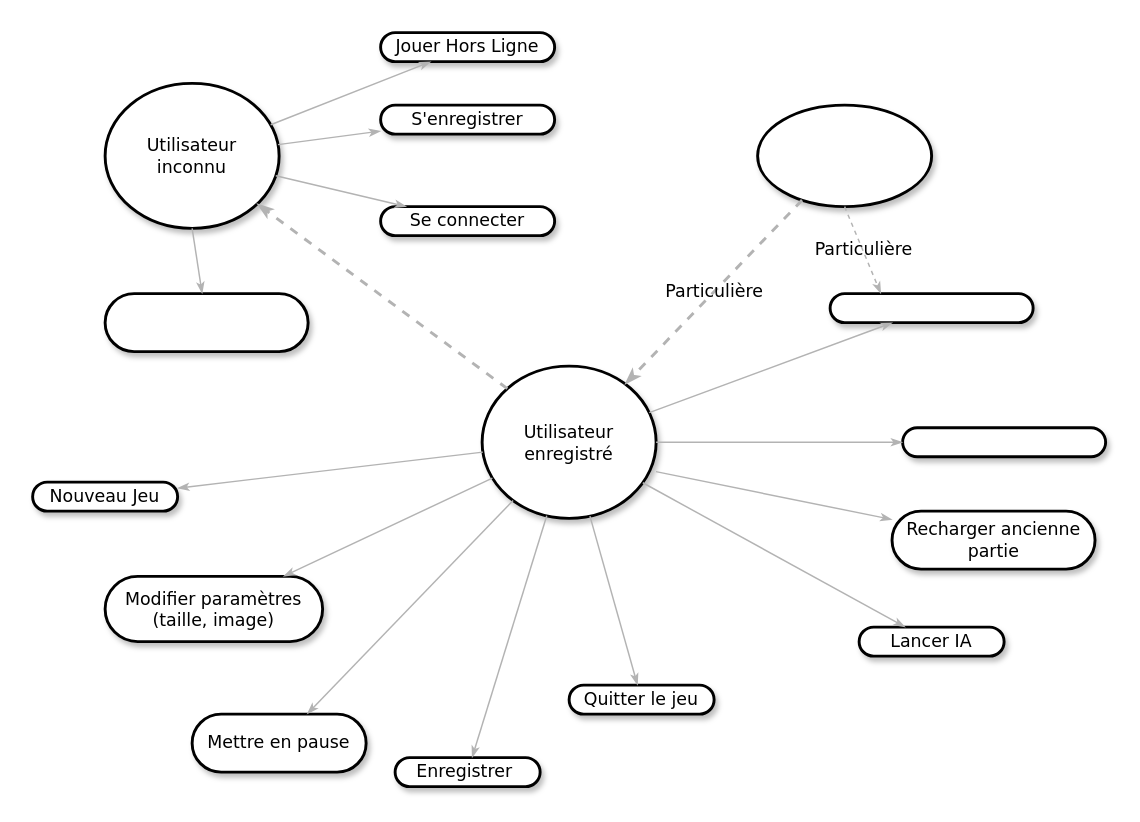
The diagram is 1140 pixels wide and 822 high, and some of its shapes have lost their labels. The centre of each missing label's shape, as x and y in pixels:
Afficher classement: the point at 1005,444
Afficher classement général: the point at 207,324
Mode multijoueur: the point at 932,310
Utilisateur enregistré 2: the point at 845,157
